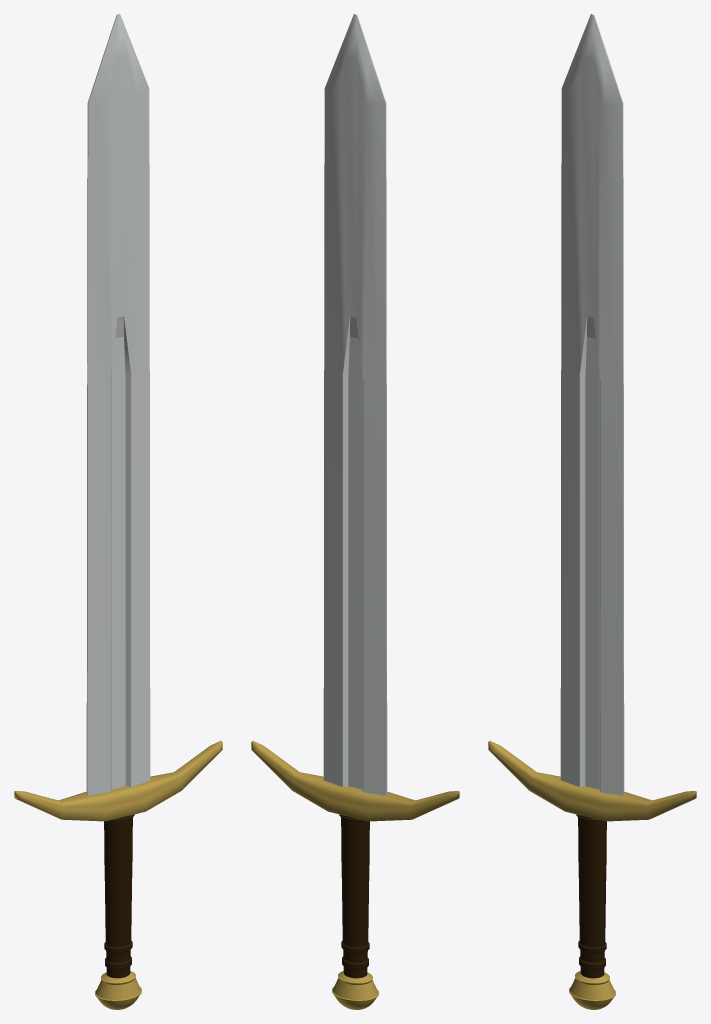
The model's file is Sword_0.fbx.
3 renders of one model, left to right at view 1: azimuth 30°, elevation 25°; view 2: azimuth 150°, elevation 25°; view 3: azimuth 330°, elevation 25°, orthographic.
Visible parts, largest first — view 1: longsword; view 2: longsword; view 3: longsword.
Boxes of the visible parts, box(x1,y1,x2,y2) form: longsword: box(14, 14, 222, 1009); longsword: box(251, 14, 459, 1009); longsword: box(488, 14, 696, 1009).
Size of the model in its own units: 0.2085 by 0.9522 by 0.0364.
